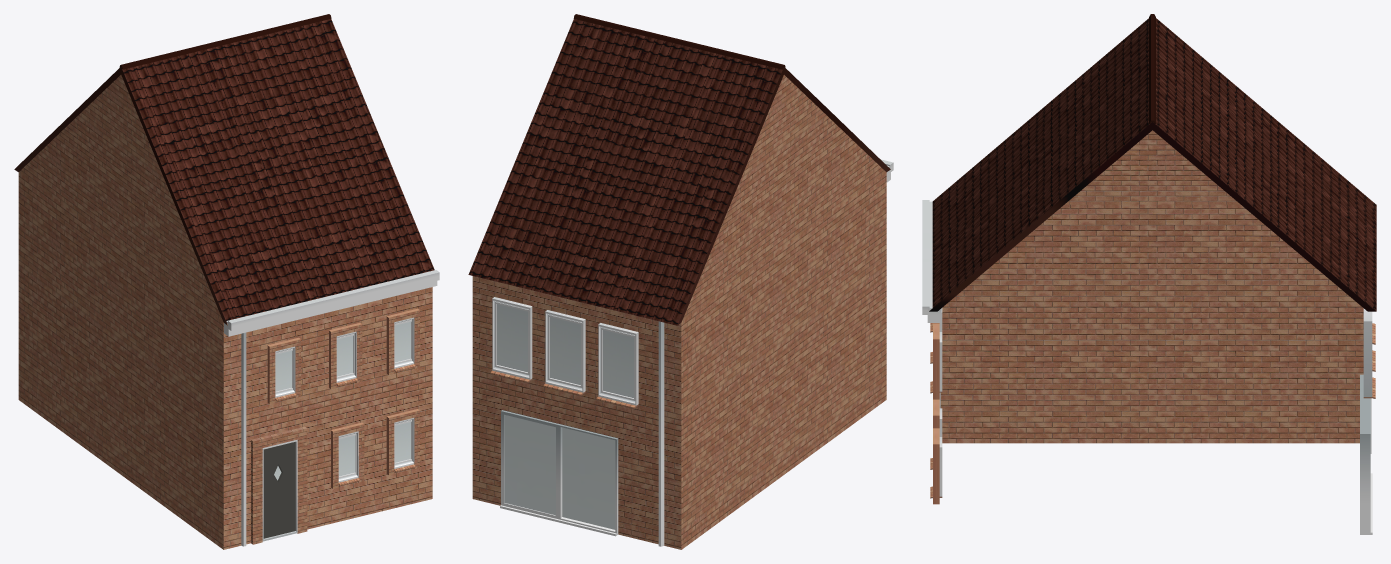
Rendered from Buorkerij_61.fbx.
3 views of the same model, side by side, from view 1: azimuth 30°, elevation 25°; view 2: azimuth 150°, elevation 25°; view 3: azimuth 270°, elevation 25° (orthographic). The views are drawn at different scales.
Visible parts, largest first — view 1: Buorkerij_61; view 2: Buorkerij_61; view 3: Buorkerij_61.
Part boxes in pixels (left/top/right/bottom): Buorkerij_61: left=14, top=14, right=439, bottom=549; Buorkerij_61: left=468, top=14, right=893, bottom=549; Buorkerij_61: left=922, top=14, right=1376, bottom=534.
Bounding box in the file's own units: 557 × 1044 × 1001.
